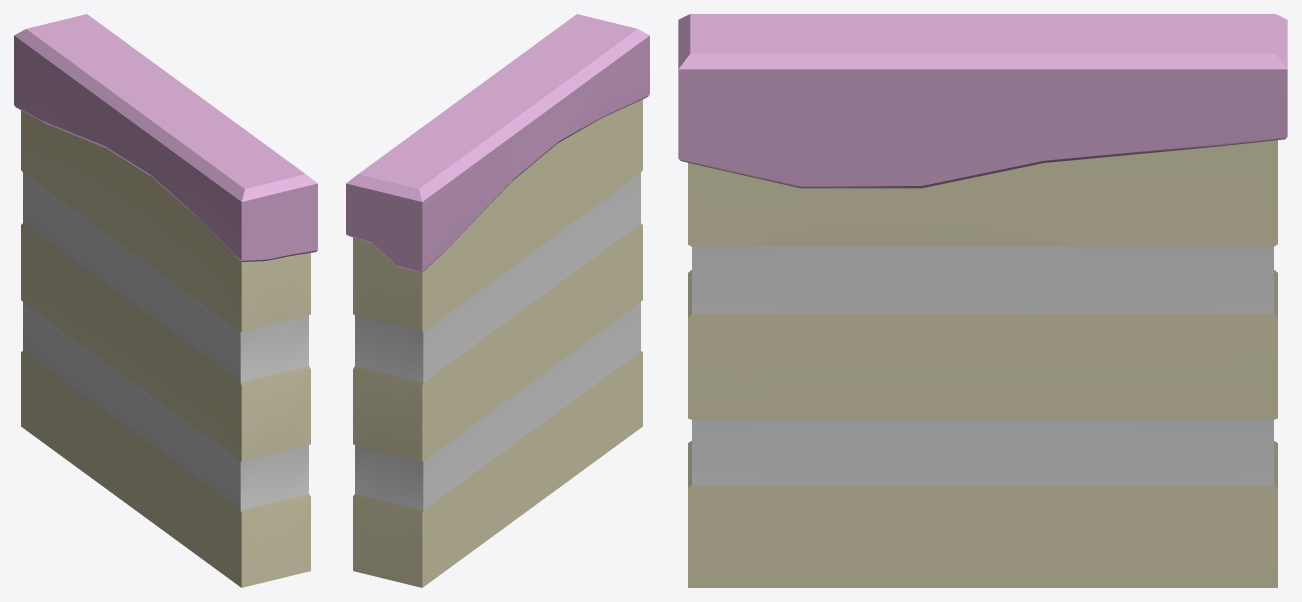
The model's file is cakewall.fbx.
3 renders of one model, left to right at view 1: azimuth 30°, elevation 25°; view 2: azimuth 150°, elevation 25°; view 3: azimuth 270°, elevation 25°, orthographic. The views are drawn at different scales.
Visible parts, largest first — view 1: pCube1; view 2: pCube1; view 3: pCube1.
Boxes of the visible parts, left/top/right/bottom form: pCube1: left=14, top=14, right=317, bottom=587; pCube1: left=346, top=14, right=649, bottom=587; pCube1: left=678, top=14, right=1287, bottom=587.
Size of the model in its own units: 1.75 by 8.73 by 9.06.
